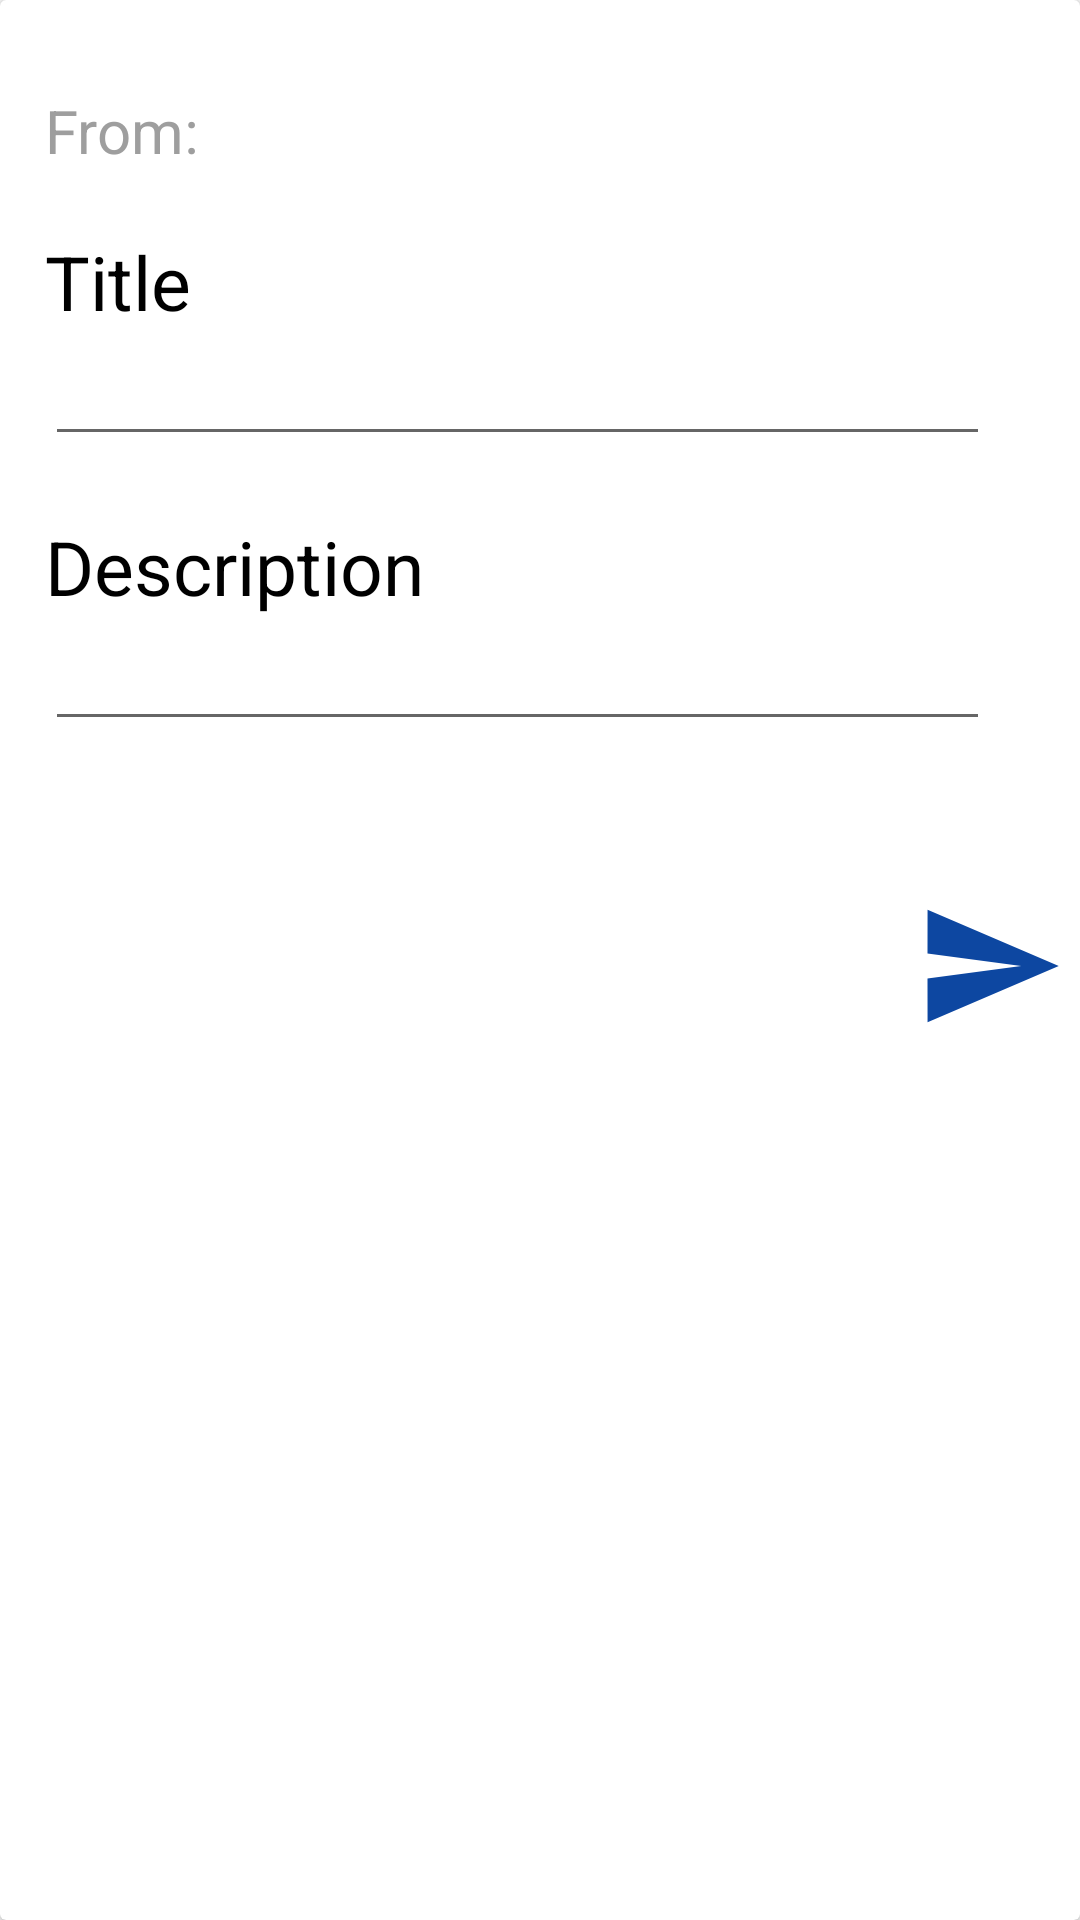

Screen size 1080px x 1920px. Icon name, then its box in pixels as bbox(x1, y1, x2, y2):
send: bbox(927, 910, 1059, 1022)
